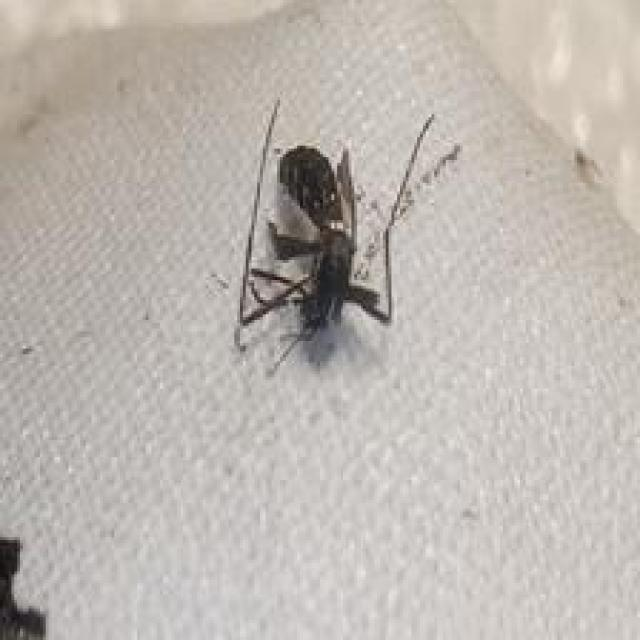Aedes albopictus: (231, 97, 463, 377)
